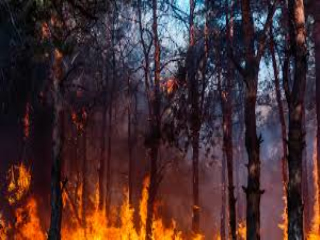fire: (61, 179, 213, 235), (5, 165, 47, 238), (302, 133, 318, 236), (277, 194, 289, 238), (236, 218, 247, 237)
